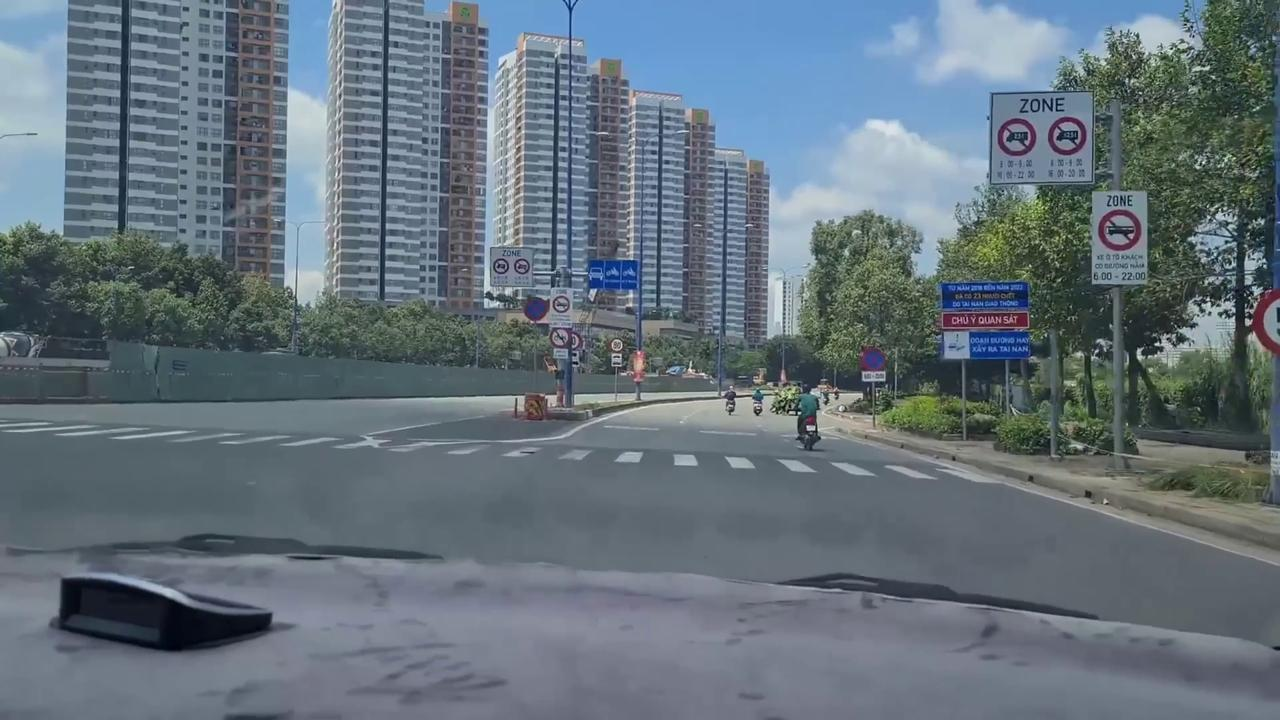Biển phụ: (610, 352, 622, 368)
Cấm cac phương tiện hoạt động trong khung giờ cố định: (987, 87, 1095, 185), (1088, 190, 1151, 286), (488, 246, 536, 288), (548, 286, 574, 328)
Cấm dừng - Cấm đỗ: (522, 295, 549, 322), (860, 346, 886, 373)
Cấm xe máy: (548, 328, 572, 350)
Giới hạn tốc độ 80Km/h: (609, 337, 625, 353)
Khác: (938, 280, 1031, 360)
Làn đường cho từng xe: (587, 258, 639, 291)
